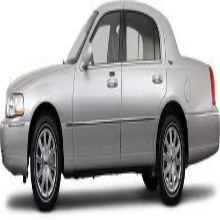no damage: (1, 1, 220, 212)
